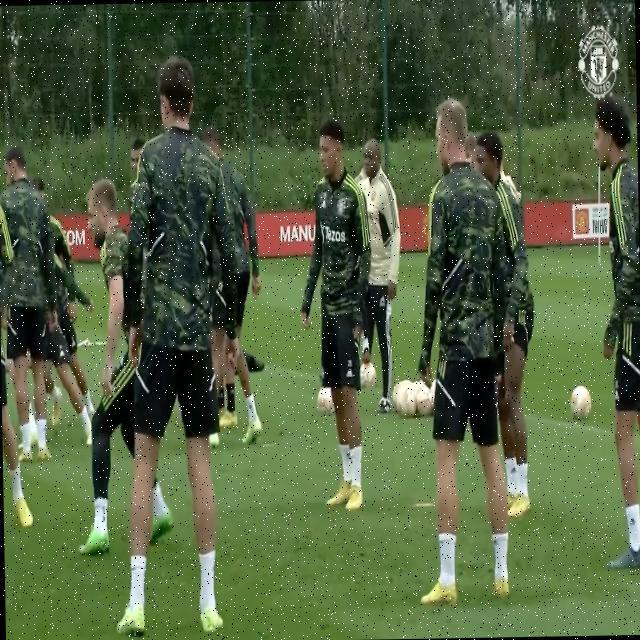Adidas: (344, 367, 354, 380), (319, 196, 326, 210)
